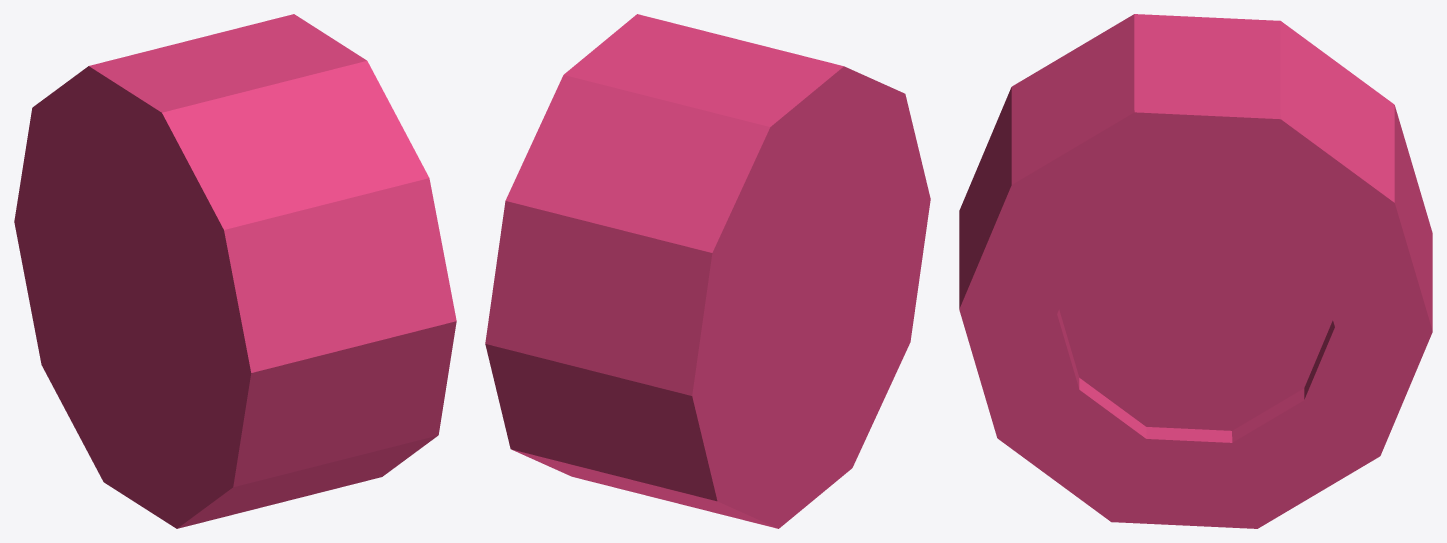
File: Kolo.fbx
The picture shows the model from 3 angles, left to right: view 1: azimuth 30°, elevation 25°; view 2: azimuth 150°, elevation 25°; view 3: azimuth 270°, elevation 25°; orthographic projection.
Visible parts, largest first — view 1: Cube.001; view 2: Cube.001; view 3: Cube.001.
Boxes of the visible parts, x1,y1,x2,y2 form: Cube.001: (14,14,456,528); Cube.001: (485,14,930,528); Cube.001: (959,14,1432,528).
Size of the model in its own units: 15.43 by 29.45 by 30.33.
